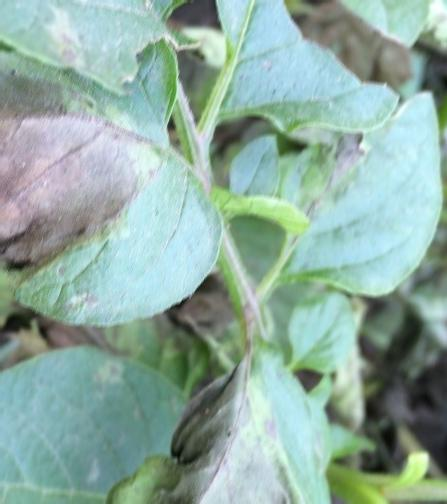Tomato leaf late blight: (0, 100, 245, 341), (113, 334, 346, 504)
